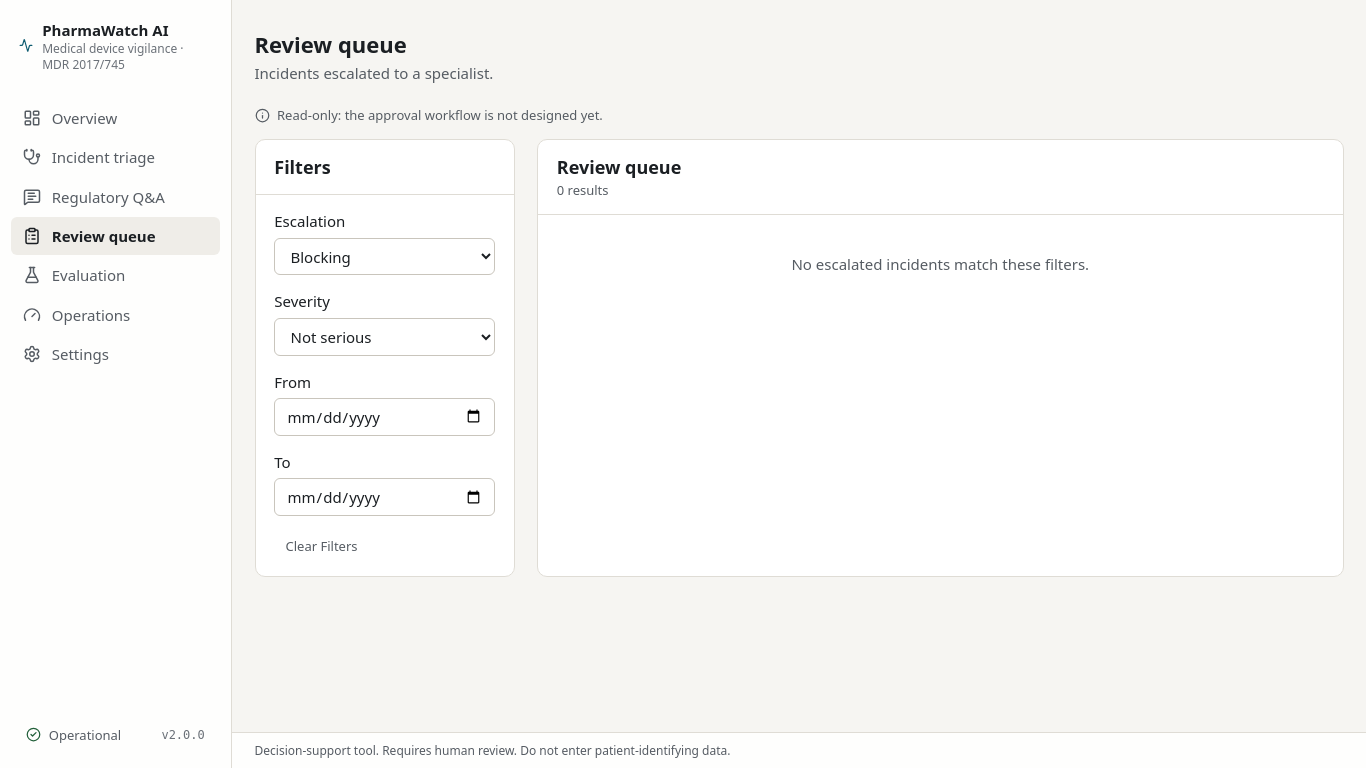
it: review queue › keeps filters in the URL and shows an empty state
Expected: the text "No escalated incidents match these filters." is shown, [791,254,1089,274]
Click the button "Clear Filters": (322, 546) [274,531,369,561]
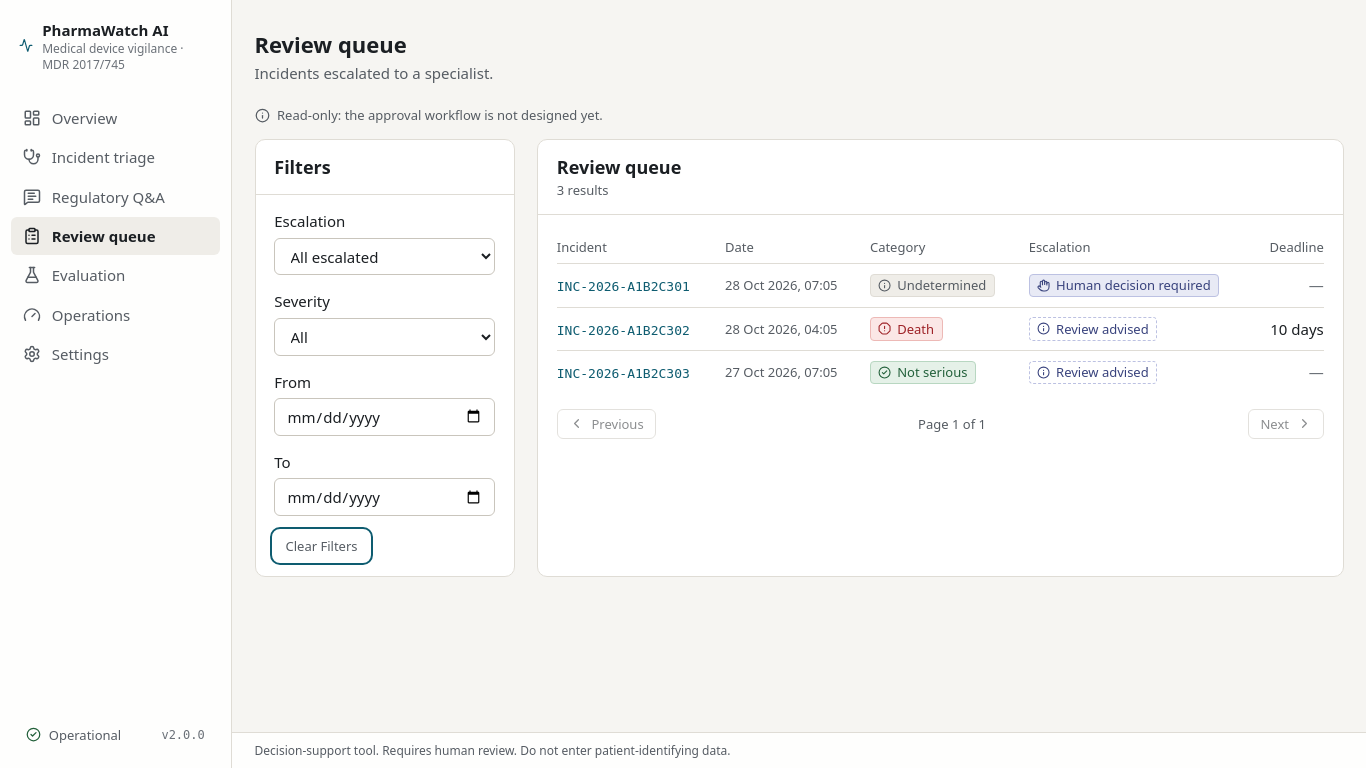
Result: the table named "review queue" is shown at [557,230,1324,394]
